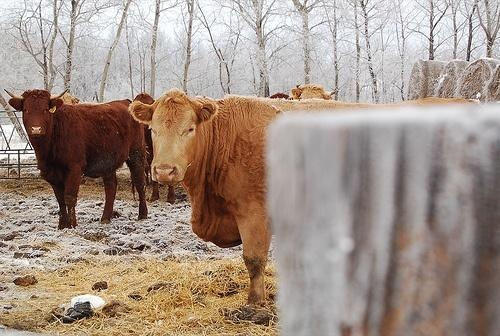cow: (131, 96, 274, 314), (1, 89, 153, 224)
